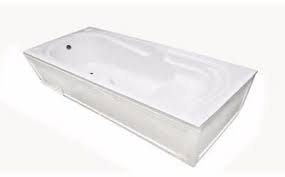bathub: (22, 24, 278, 167)
